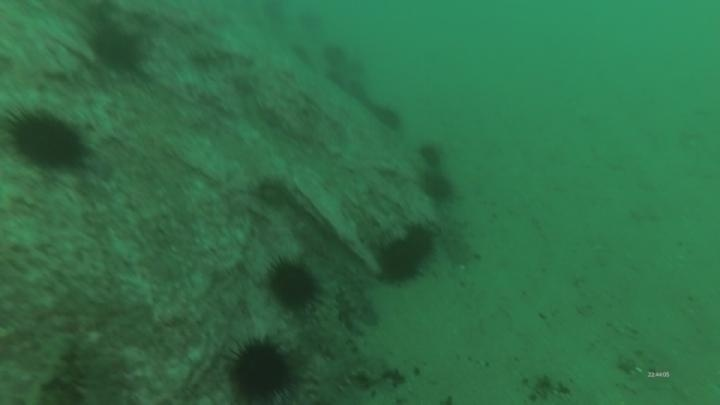echinus: (4, 105, 92, 174), (222, 333, 302, 404), (263, 255, 324, 314), (87, 23, 145, 73), (375, 236, 426, 286), (401, 222, 438, 263), (419, 170, 457, 204), (371, 102, 405, 133), (416, 140, 446, 169), (320, 41, 349, 70)
holothurian: (305, 349, 379, 405), (72, 340, 122, 405), (334, 273, 381, 335), (440, 215, 479, 268)
